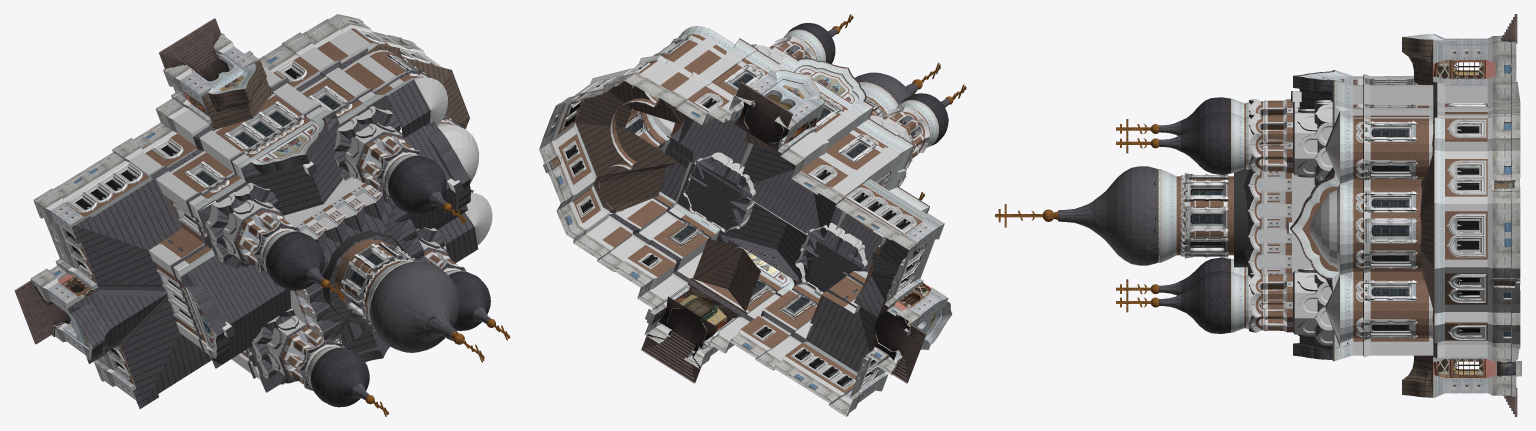
The model's file is Lossi_plats_10.obj.
3 renders of one model, left to right at view 1: azimuth 30°, elevation 25°; view 2: azimuth 150°, elevation 25°; view 3: azimuth 270°, elevation 25°, orthographic. The views are drawn at different scales.
Visible parts, largest first — view 1: Lossi_plats_10; view 2: Lossi_plats_10; view 3: Lossi_plats_10.
Boxes of the visible parts, x1,y1,x2,y2 form: Lossi_plats_10: (14,14,510,416); Lossi_plats_10: (539,14,966,416); Lossi_plats_10: (995,14,1521,416).
Size of the model in its own units: 55.52 by 42.95 by 56.44.
